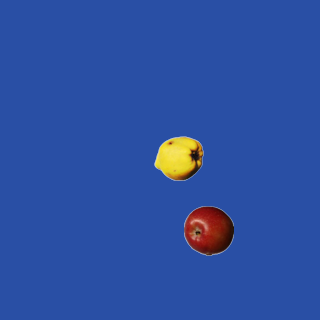Apple Braeburn: (183, 205, 233, 255)
Quince: (153, 133, 203, 183)
